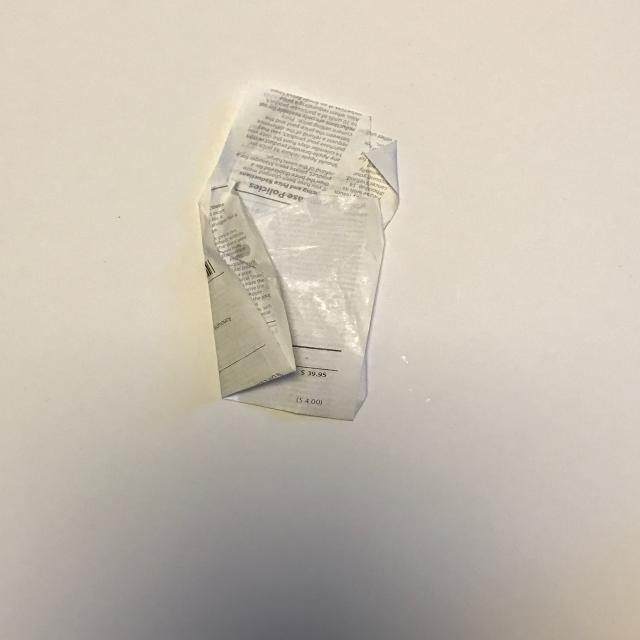paper: (201, 80, 403, 422)
